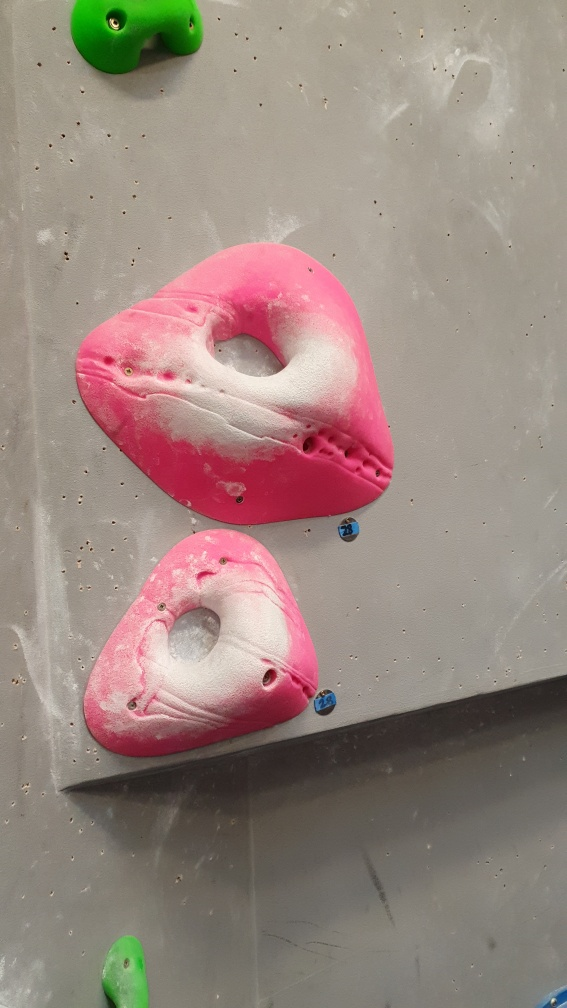Hand Start: (328, 510, 363, 552), (313, 685, 339, 721)
Pocket: (70, 236, 406, 528), (78, 530, 324, 761)
